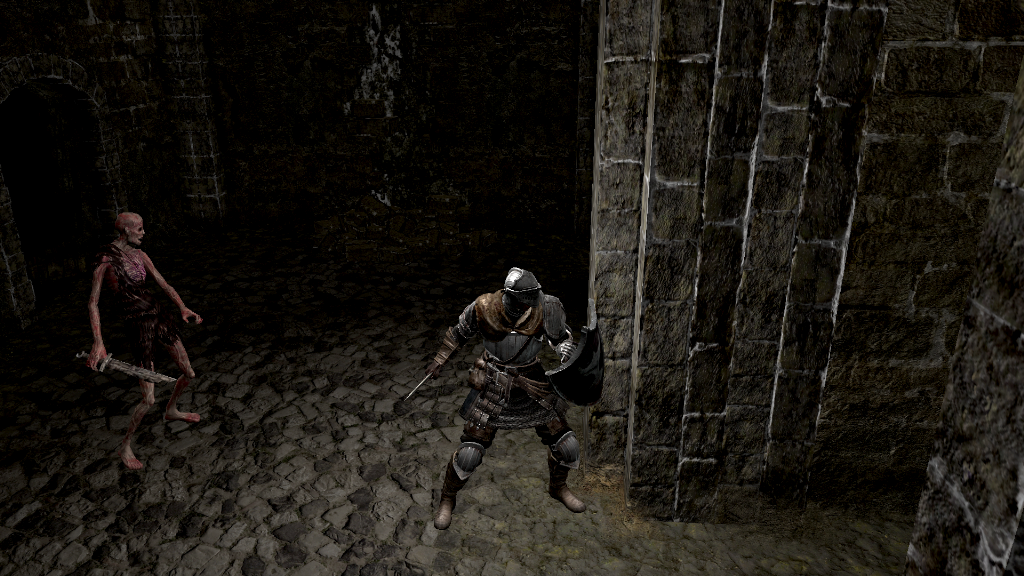hollow: (86, 211, 202, 467)
player: (404, 264, 606, 532)
